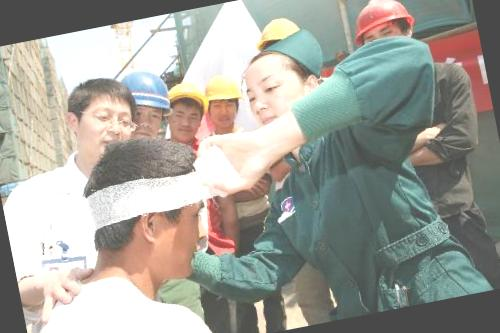no_helmet: (71, 127, 225, 294), (236, 30, 333, 132), (58, 72, 140, 166)
